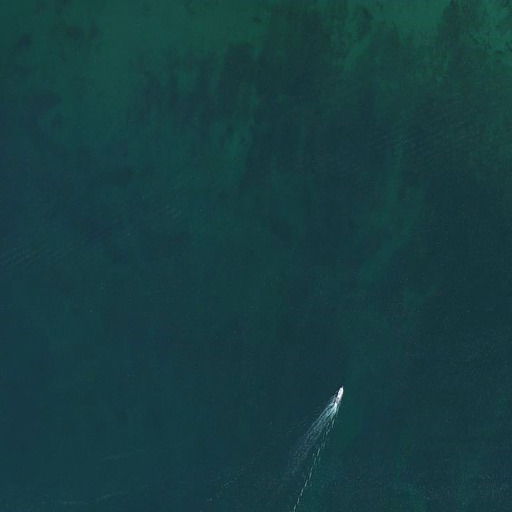ship: (335, 383, 345, 404)
